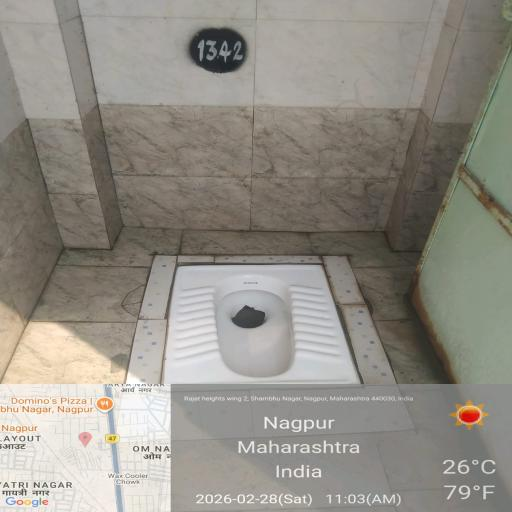clean_floor: (82, 33, 436, 185)
partial_dirty_floor: (24, 220, 511, 512)
partial_dirty_indian: (145, 264, 388, 399)
